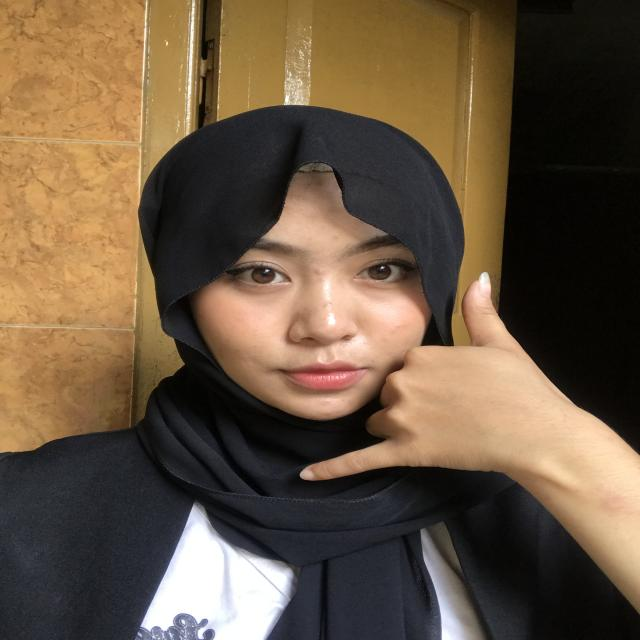telpon: (298, 276, 549, 506)
